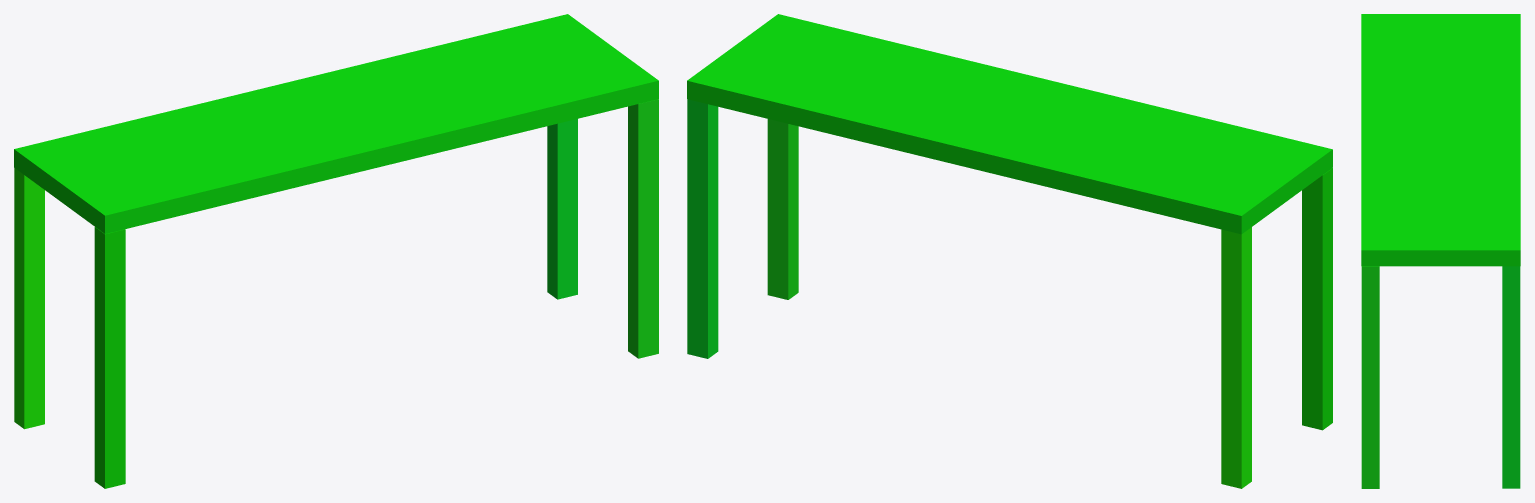
File: table.glb
3 views of the same model, side by side, from view 1: azimuth 30°, elevation 25°; view 2: azimuth 150°, elevation 25°; view 3: azimuth 270°, elevation 25° (orthographic). The views are drawn at different scales.
Parts seen in each view (by area): view 1: Cube, Куб.007, Куб, Куб.006, Куб.005; view 2: Cube, Куб.005, Куб.006, Куб.007, Куб; view 3: Cube, Куб, Куб.005.
Boxes of the visible parts, <box> form: Cube: <box>14,14,658,233</box>; Куб.007: <box>94,227,125,488</box>; Куб: <box>628,99,658,358</box>; Куб.006: <box>14,168,44,429</box>; Куб.005: <box>547,119,577,299</box>; Cube: <box>687,14,1332,234</box>; Куб.005: <box>687,99,718,358</box>; Куб.006: <box>1221,227,1251,488</box>; Куб.007: <box>1302,168,1332,430</box>; Куб: <box>767,119,798,299</box>; Cube: <box>1361,14,1520,266</box>; Куб: <box>1361,266,1379,488</box>; Куб.005: <box>1502,266,1520,488</box>.
Bounding box in the file's own units: 22.98 × 10.83 × 6.54.
